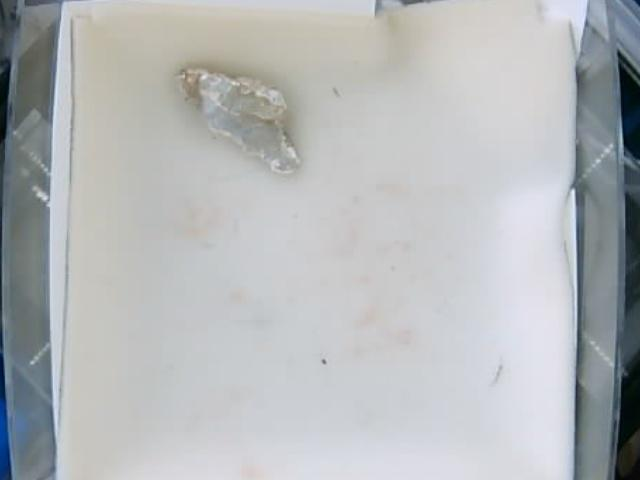Brisk: (172, 67, 302, 173)
